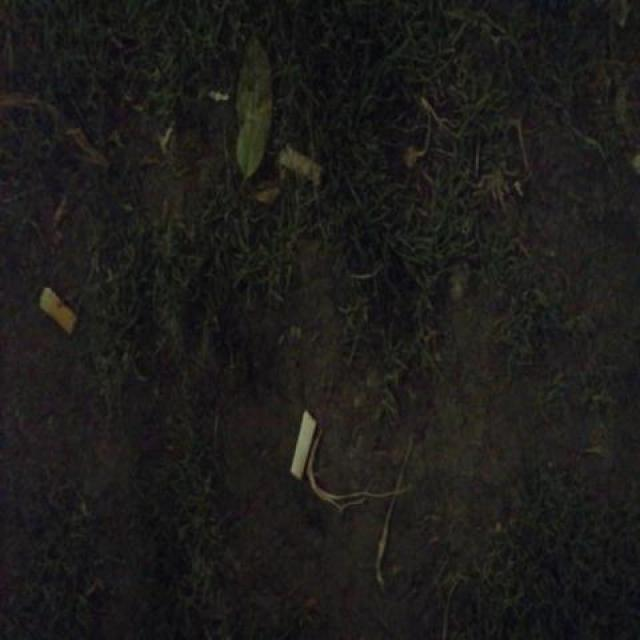non-organic waste: (35, 280, 81, 345), (275, 139, 328, 192), (286, 404, 318, 480)
